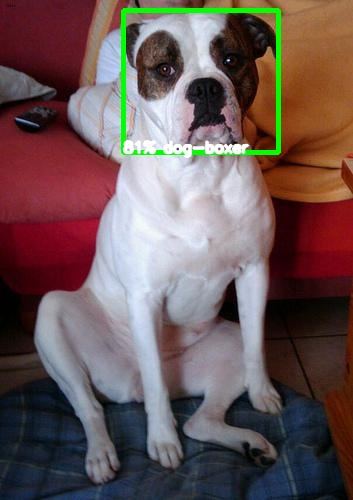dog-american_bulldog: (123, 8, 279, 153)
